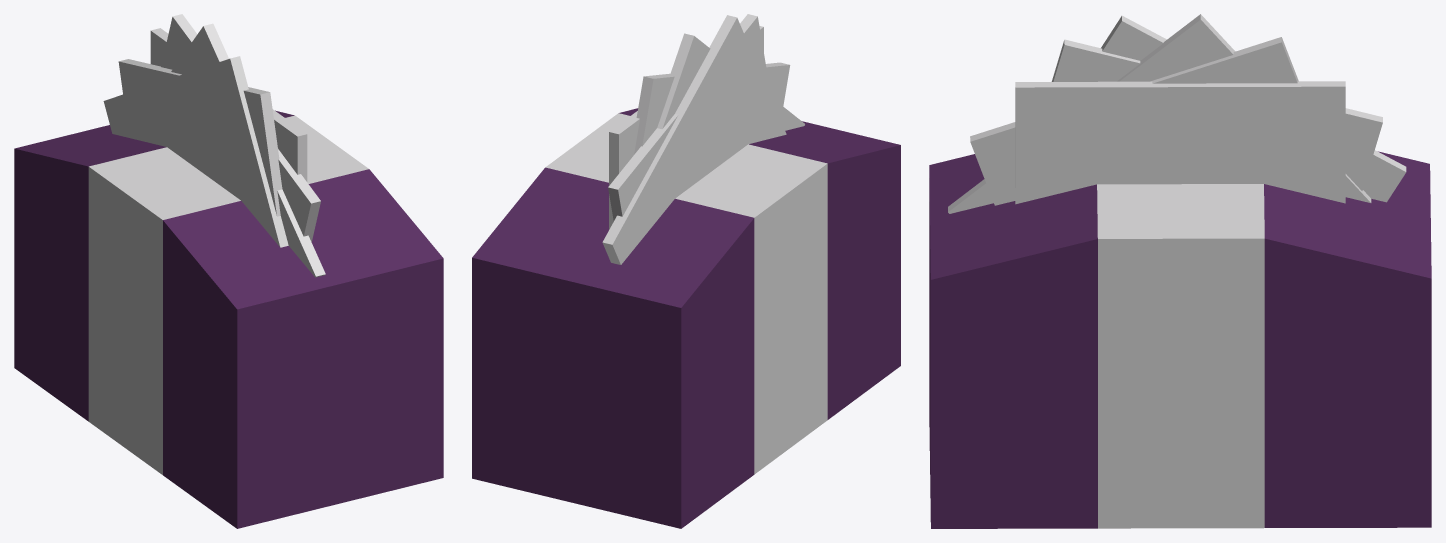
The model's file is SM_tissueHolder_02.glb.
3 renders of one model, left to right at view 1: azimuth 30°, elevation 25°; view 2: azimuth 150°, elevation 25°; view 3: azimuth 270°, elevation 25°, orthographic. The views are drawn at different scales.
Parts seen in each view (by area): view 1: SM_tissueHolder_02; view 2: SM_tissueHolder_02; view 3: SM_tissueHolder_02.
Boxes of the visible parts, <box> form: SM_tissueHolder_02: <box>14,14,443,528</box>; SM_tissueHolder_02: <box>472,14,900,528</box>; SM_tissueHolder_02: <box>929,14,1431,528</box>.
Bounding box in the file's own units: 0.1354 × 0.2438 × 0.2479.
Materials: 1 (1 with a texture image).
